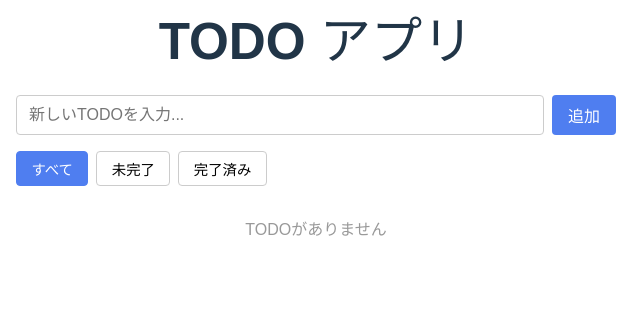
Test: App (統合テスト) › completed フィルターで完了済みのみ表示される
Type "未完了TODO" into the field with placeholder "新しいTODOを入力...". click: (280, 115)
box: x1=16 y1=95 x2=544 y2=135
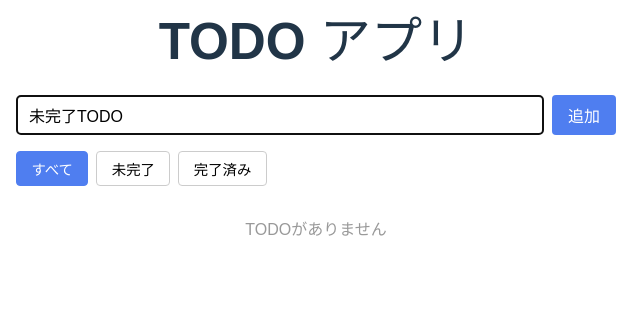
Click the button "追加". click: (584, 115)
box: x1=552 y1=95 x2=616 y2=135
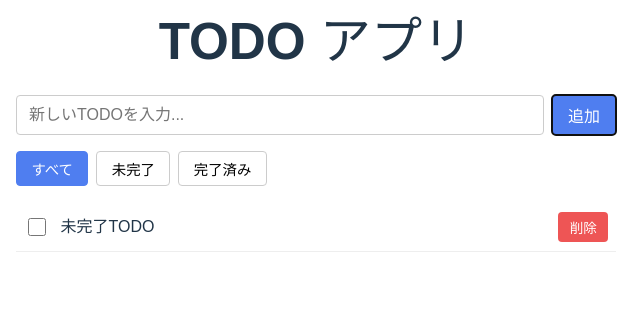
Type "完了済みTODO" into the field with placeholder "新しいTODOを入力...". click: (280, 115)
box: x1=16 y1=95 x2=544 y2=135
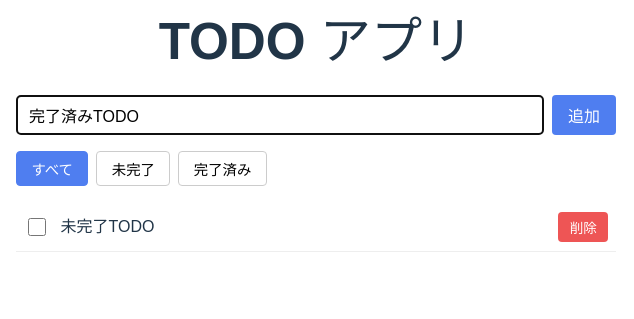
Click the button "追加". click: (584, 115)
box: x1=552 y1=95 x2=616 y2=135
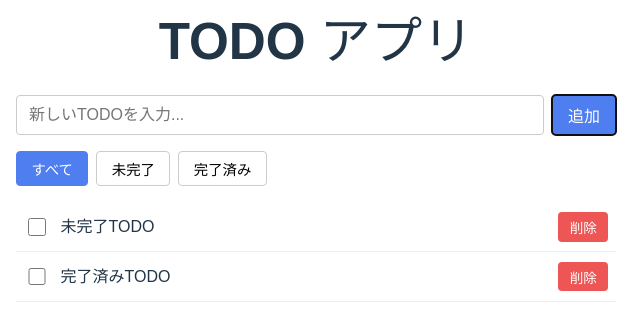
Click the checkbox next to "完了済みTODO". click: (37, 277)
box: x1=28 y1=268 x2=46 y2=285
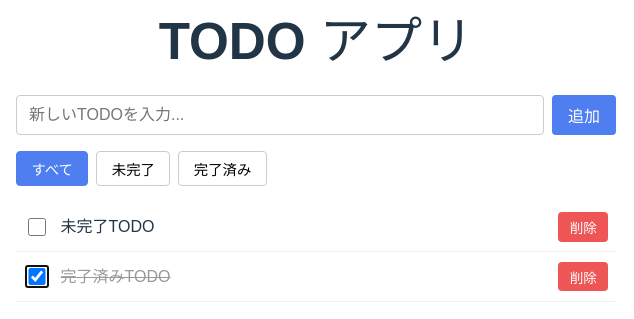
Click the button "完了済み". click: (222, 168)
box: x1=178 y1=151 x2=267 y2=186
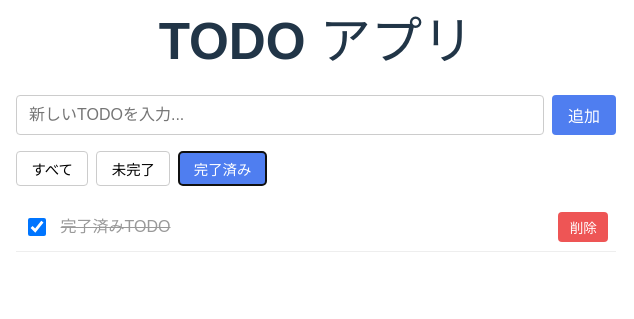
Check: the text "完了済みTODO" is shown, box x1=61 y1=218 x2=170 y2=235
Check: the text "未完了TODO" is gone
